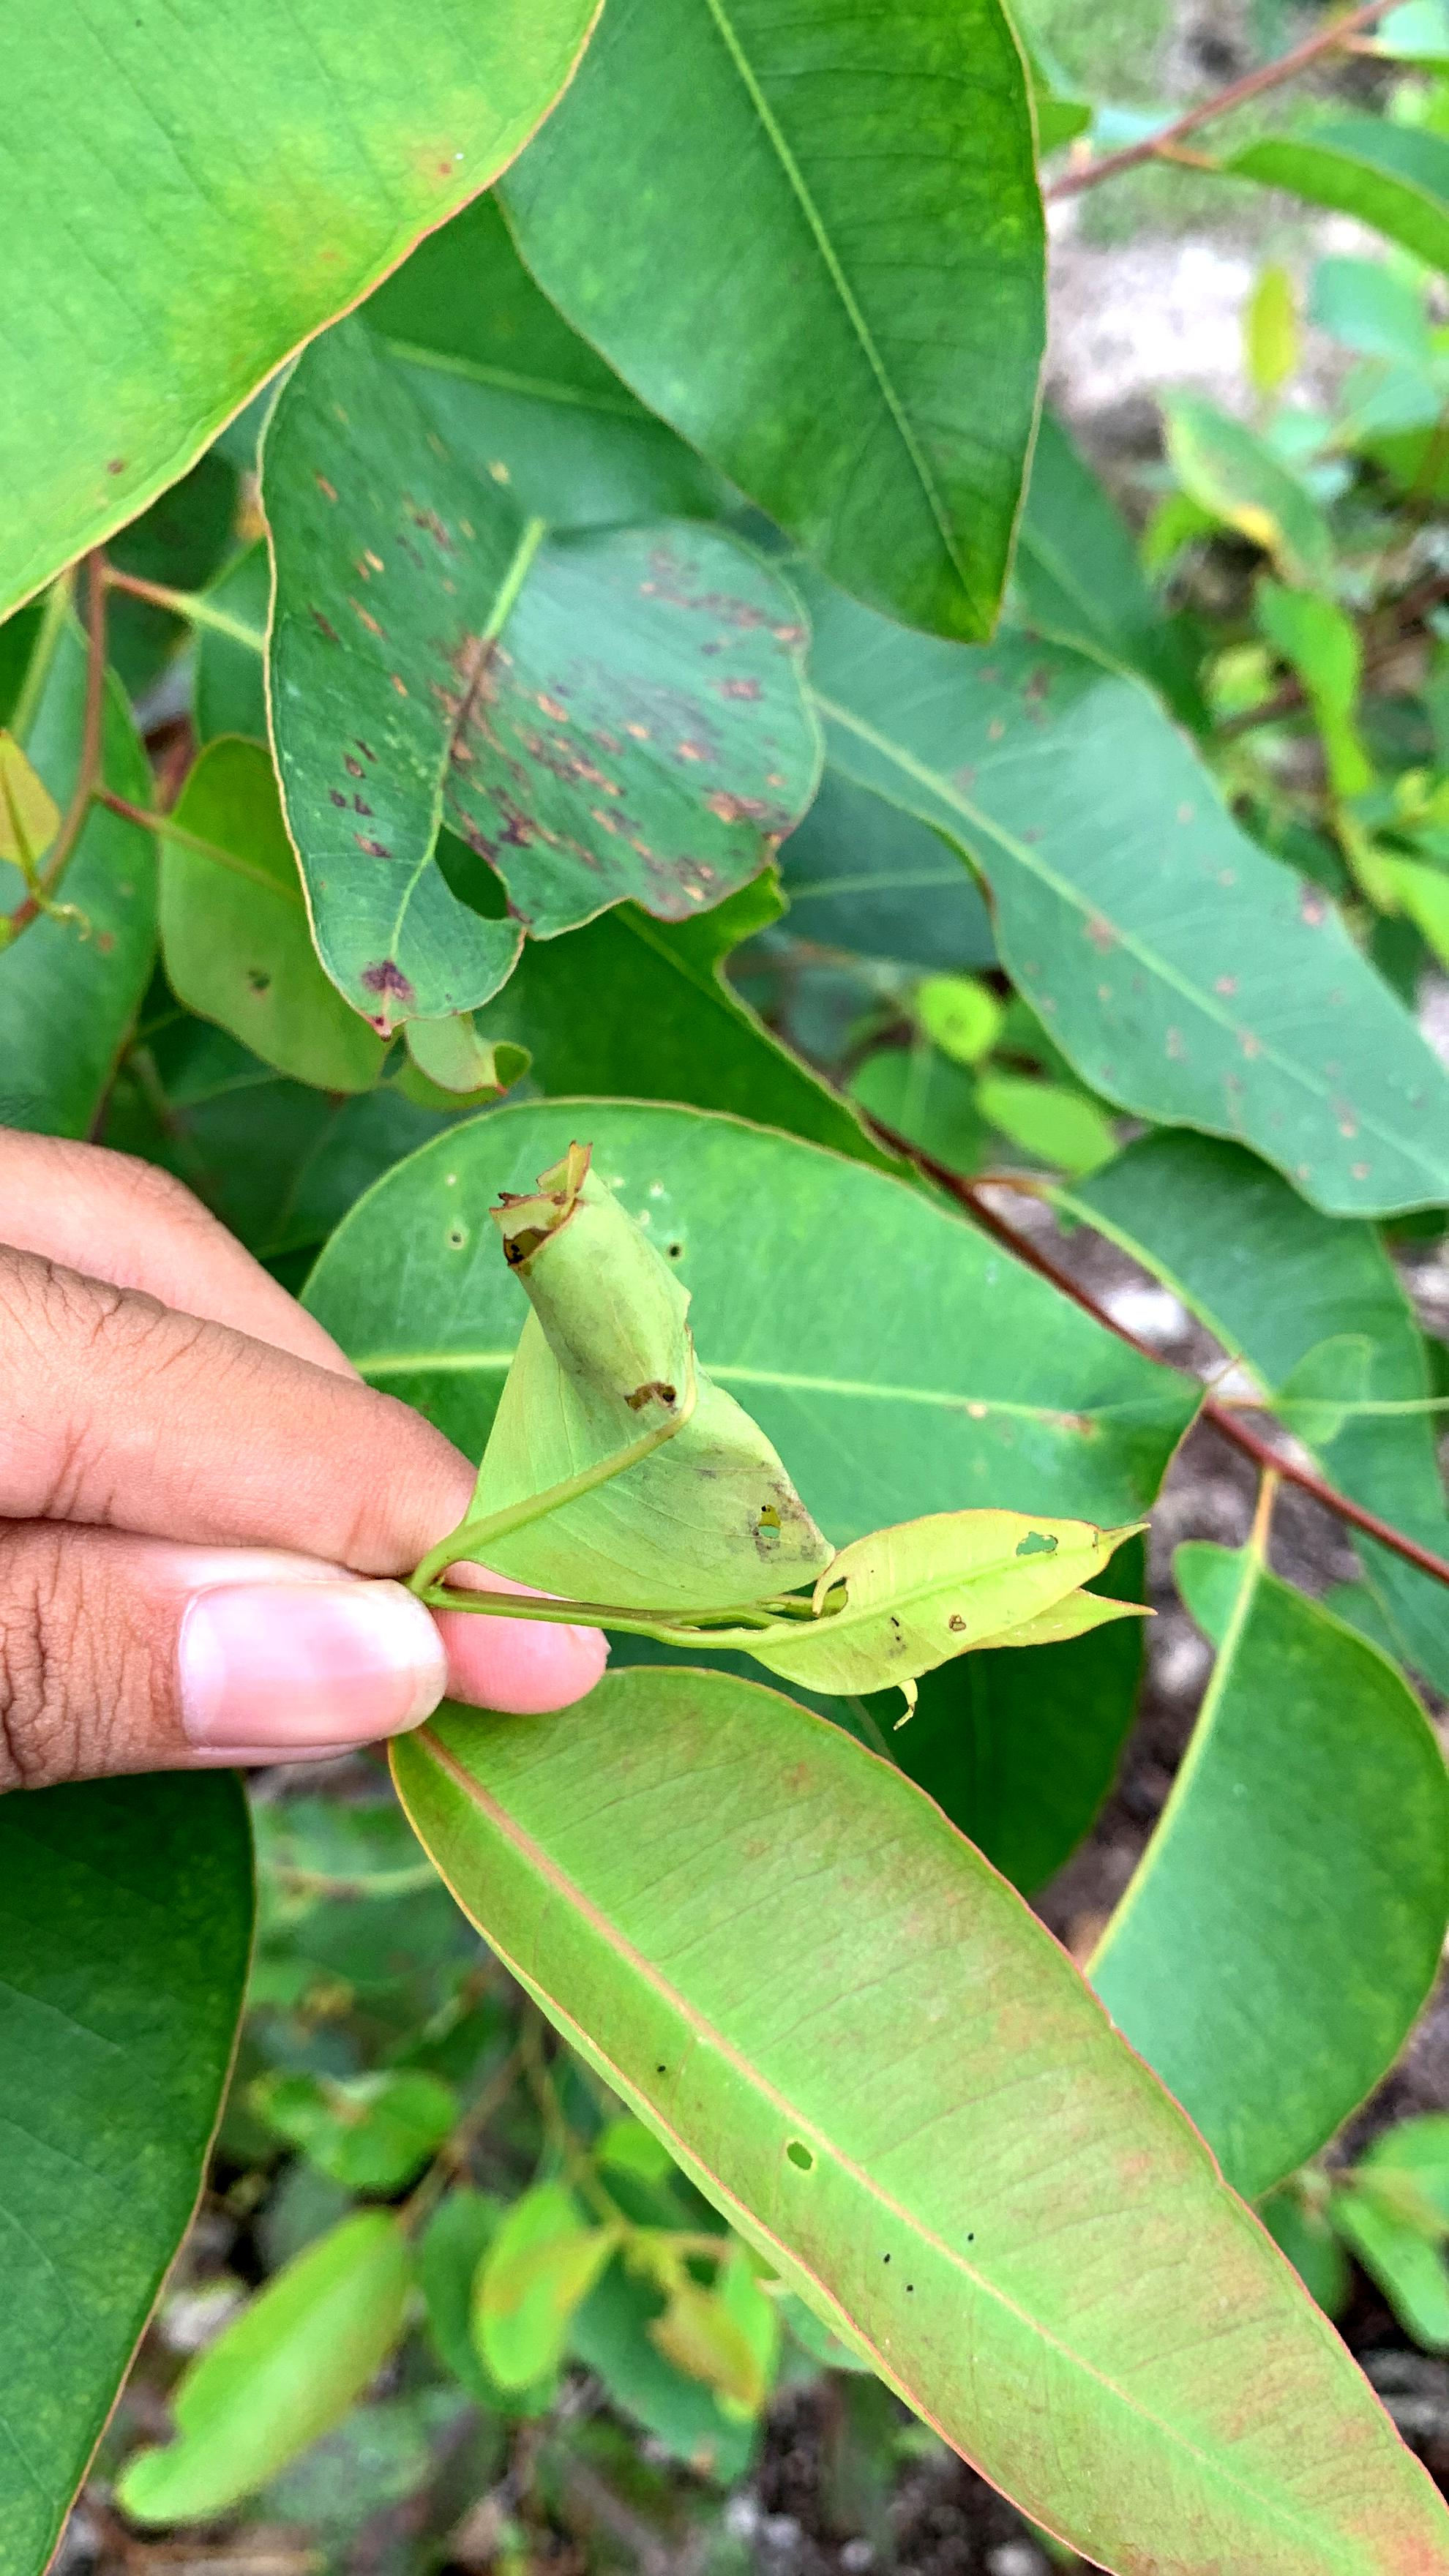Leaf Roller - Leaf: (382, 1115, 1185, 1752)
